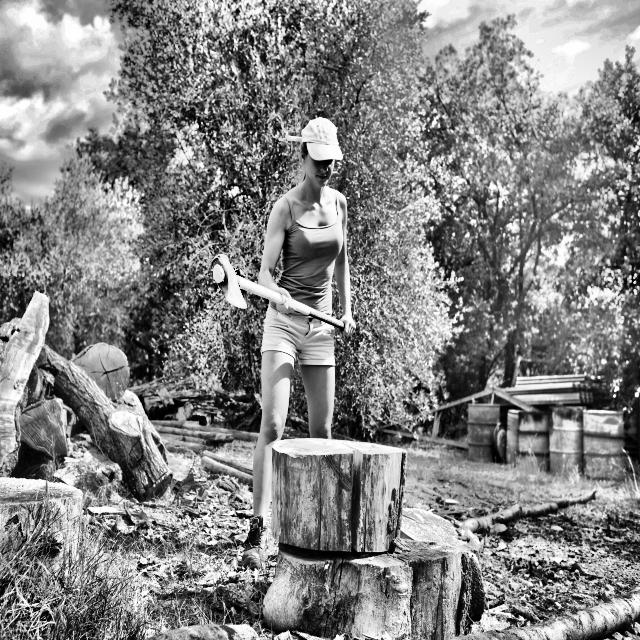kapak: (206, 244, 377, 345)
